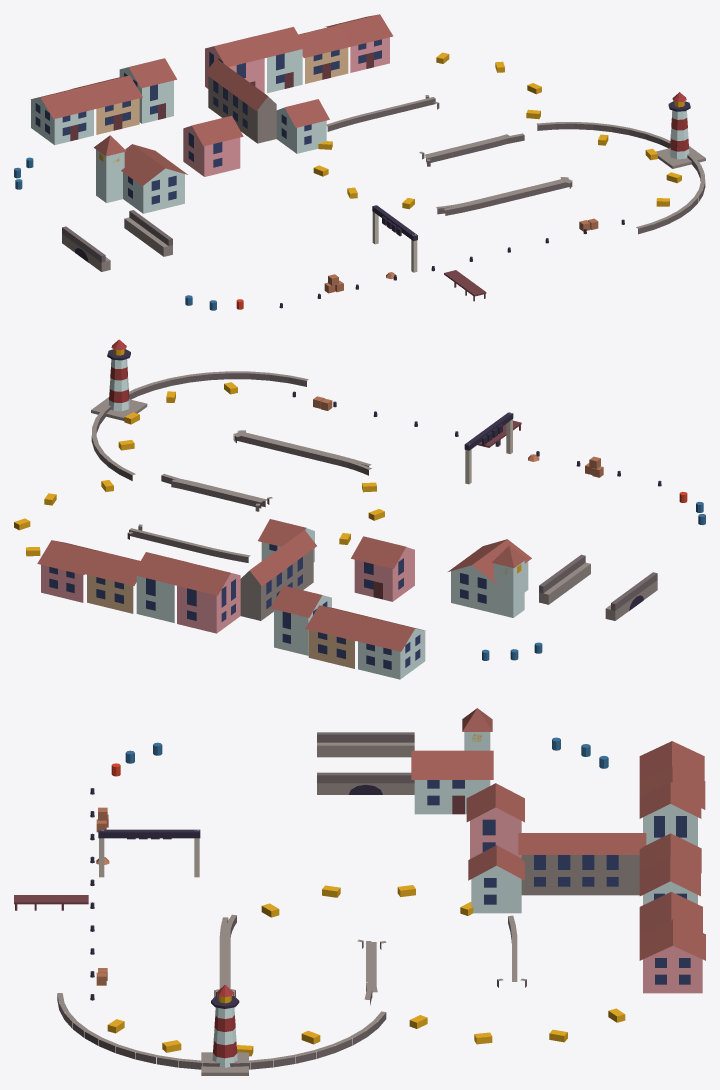
File: town.glb
3 views of the same model, one above another, from view 1: azimuth 30°, elevation 25°; view 2: azimuth 150°, elevation 25°; view 3: azimuth 270°, elevation 25° (orthographic). The views are drawn at different scales.
Visible parts, largest first — view 1: town; view 2: town; view 3: town.
Part boxes in pixels (left/top/right/bottom): town: left=14, top=14, right=705, bottom=310; town: left=14, top=339, right=705, bottom=679; town: left=14, top=708, right=705, bottom=1075.
Size of the model in its own units: 73.42 by 9.6 by 63.92.
